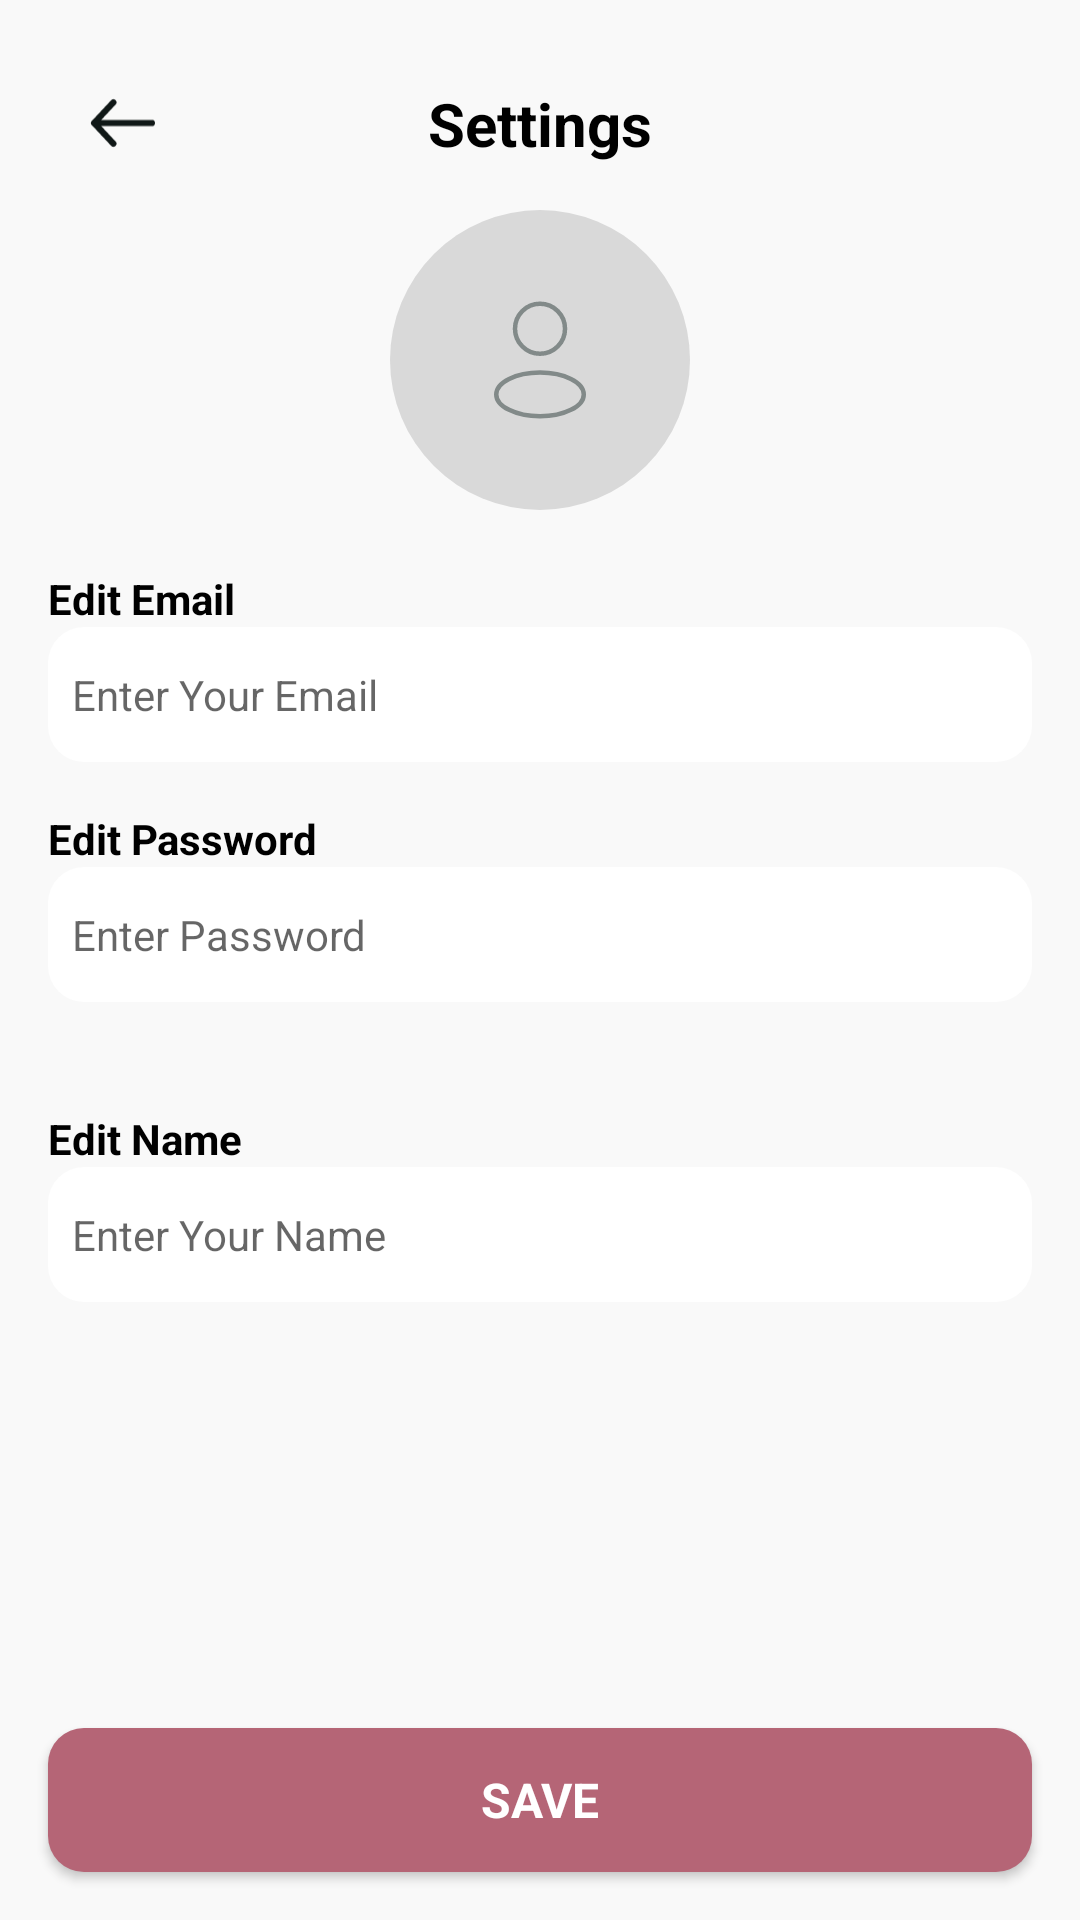

Icon bounding boxes for this 1080 x 1920 phone screenshot, format (x1, y1, x2, y2):
back: (91, 99, 155, 147)
